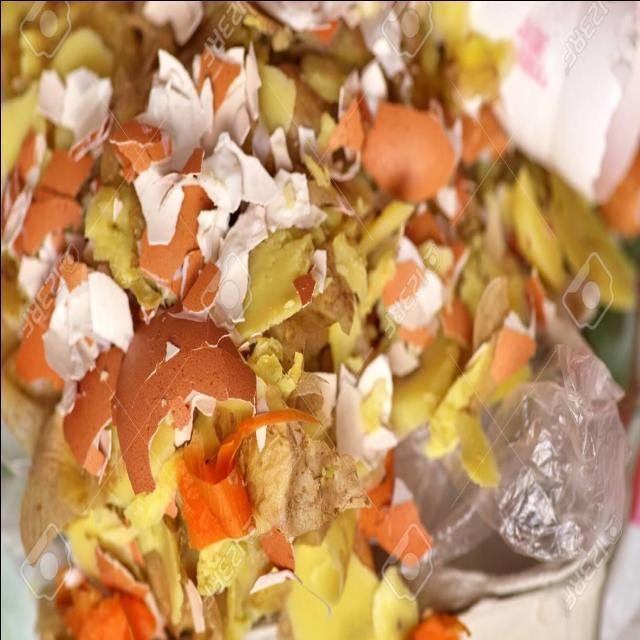Garbage: (1, 1, 640, 638)
contaminated_waste: (397, 304, 630, 575)
